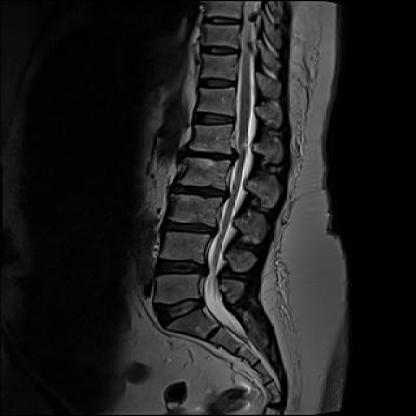Disc Bulgerotation: (149, 254, 216, 282), (165, 176, 235, 202), (155, 217, 223, 242), (178, 142, 244, 165)
